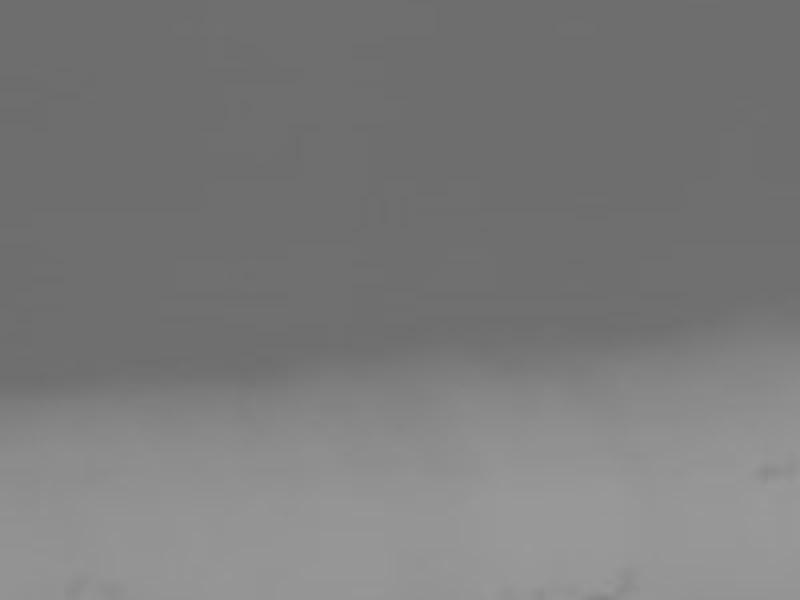defect: (755, 462, 779, 488)
